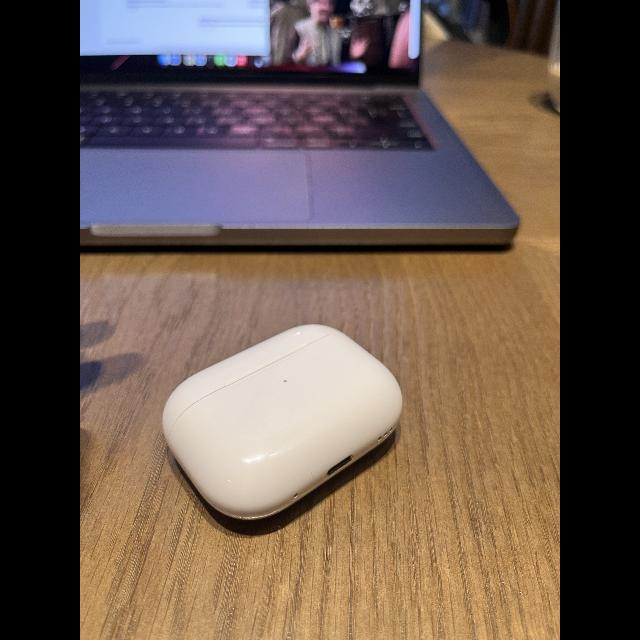AirPods Pro: (154, 318, 408, 534)
